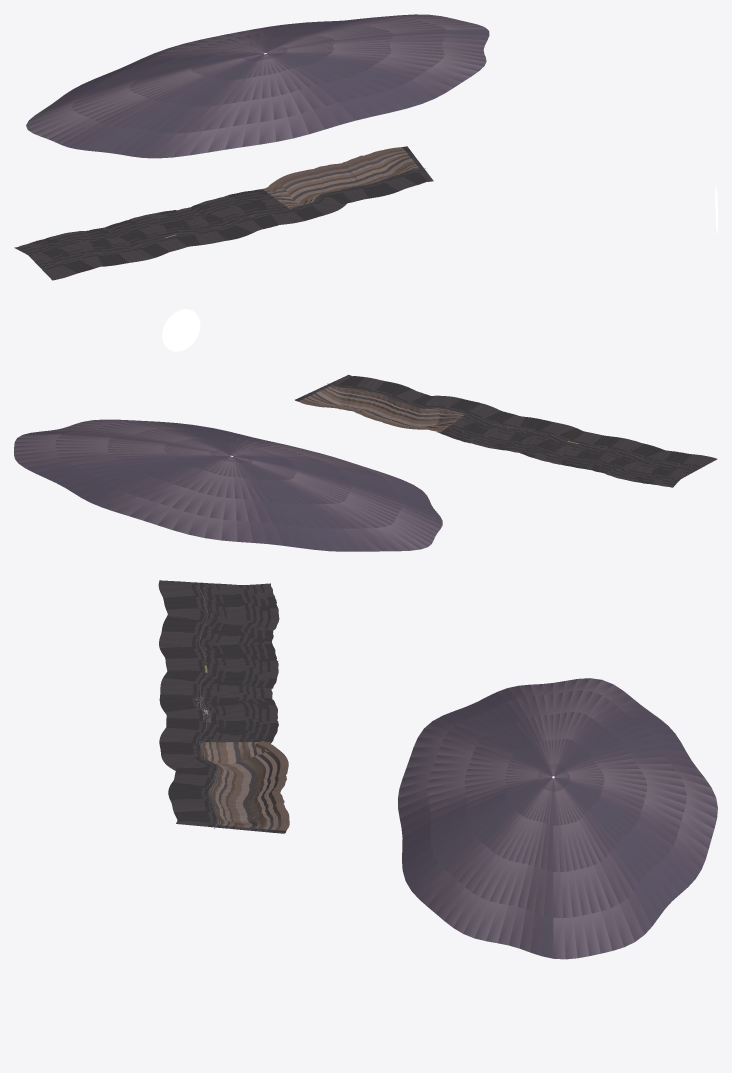
Rendered from kilauea.glb.
3 views of the same model, one above another, from view 1: azimuth 30°, elevation 25°; view 2: azimuth 150°, elevation 25°; view 3: azimuth 270°, elevation 25° (orthographic). The views are drawn at different scales.
Visible parts, largest first — view 1: MaunaLoaShield, CalderaWalls, KilaueaBasalt_011, KilaueaBasalt_004, KilaueaBasalt_019, KilaueaBasalt_016, KilaueaBasalt_009, KilaueaBasalt_017, KilaueaBasalt_003, KilaueaBasalt_001, KilaueaBasalt_006, KilaueaBasalt_018 (+7 smaller); view 2: MaunaLoaShield, CalderaWalls, Sun, KilaueaBasalt_011, KilaueaBasalt_019, KilaueaBasalt_004, KilaueaBasalt_009, KilaueaBasalt_016, KilaueaBasalt_017, KilaueaBasalt_003, KilaueaBasalt_001, KilaueaBasalt_018 (+7 smaller); view 3: MaunaLoaShield, CalderaWalls, KilaueaBasalt_004, KilaueaBasalt_011, KilaueaBasalt_009, KilaueaBasalt_003, KilaueaBasalt_014, KilaueaBasalt_001, KilaueaBasalt_019, KilaueaBasalt_006, KilaueaBasalt_016, KilaueaBasalt_017 (+8 smaller).
Part boxes in pixels (x1,y1,x2,y2): MaunaLoaShield: (26,14,489,158); CalderaWalls: (262,147,419,208); KilaueaBasalt_011: (136,211,189,247); KilaueaBasalt_004: (56,231,105,266); KilaueaBasalt_019: (239,189,283,225); KilaueaBasalt_016: (190,201,257,233); KilaueaBasalt_009: (107,220,172,252); KilaueaBasalt_017: (207,196,265,230); KilaueaBasalt_003: (39,235,100,268); KilaueaBasalt_001: (15,243,80,274); KilaueaBasalt_006: (87,228,134,263); KilaueaBasalt_018: (225,193,277,228); MaunaLoaShield: (14,419,442,551); CalderaWalls: (298,385,465,432); Sun: (162,309,200,351); KilaueaBasalt_011: (529,431,586,463); KilaueaBasalt_019: (439,409,501,439); KilaueaBasalt_004: (606,449,665,480); KilaueaBasalt_009: (563,435,606,468); KilaueaBasalt_016: (488,416,527,450); KilaueaBasalt_017: (470,414,519,447); KilaueaBasalt_003: (628,450,674,483); KilaueaBasalt_001: (655,453,697,487); KilaueaBasalt_018: (458,411,511,443); MaunaLoaShield: (398,678,717,959); CalderaWalls: (200,741,289,830); KilaueaBasalt_004: (166,613,279,629); KilaueaBasalt_011: (167,665,278,681); KilaueaBasalt_009: (165,645,276,660); KilaueaBasalt_003: (166,601,278,614); KilaueaBasalt_014: (160,690,272,699); KilaueaBasalt_001: (161,584,273,599); KilaueaBasalt_019: (164,727,277,743); KilaueaBasalt_006: (161,628,273,641); KilaueaBasalt_016: (164,698,277,715); KilaueaBasalt_017: (166,710,277,721).
Bounding box in the file's own units: 12535 × 1807 × 9452.
